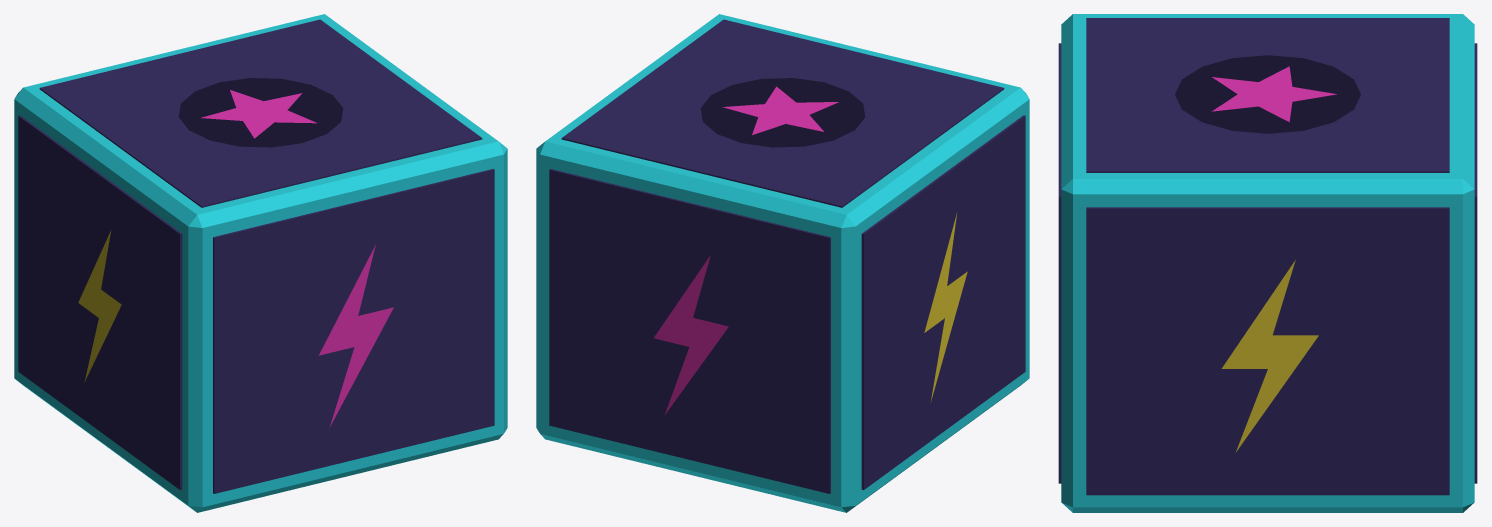
File: neon-crate.glb
The picture shows the model from 3 angles, left to right: view 1: azimuth 30°, elevation 25°; view 2: azimuth 150°, elevation 25°; view 3: azimuth 270°, elevation 25°; orthographic projection. The views are drawn at different scales.
Parts seen in each view (by area): view 1: neon-crate; view 2: neon-crate; view 3: neon-crate.
Part boxes in pixels (bbox=[...]): neon-crate: bbox=[14, 14, 507, 512]; neon-crate: bbox=[536, 14, 1029, 512]; neon-crate: bbox=[1058, 14, 1477, 512].
Bounding box in the file's own units: 0.901 × 0.801 × 0.901.
